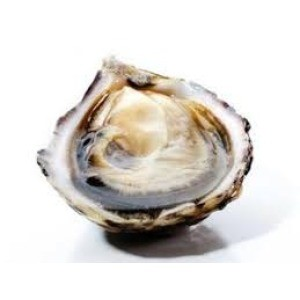oyster_brain food: (56, 78, 245, 234)
